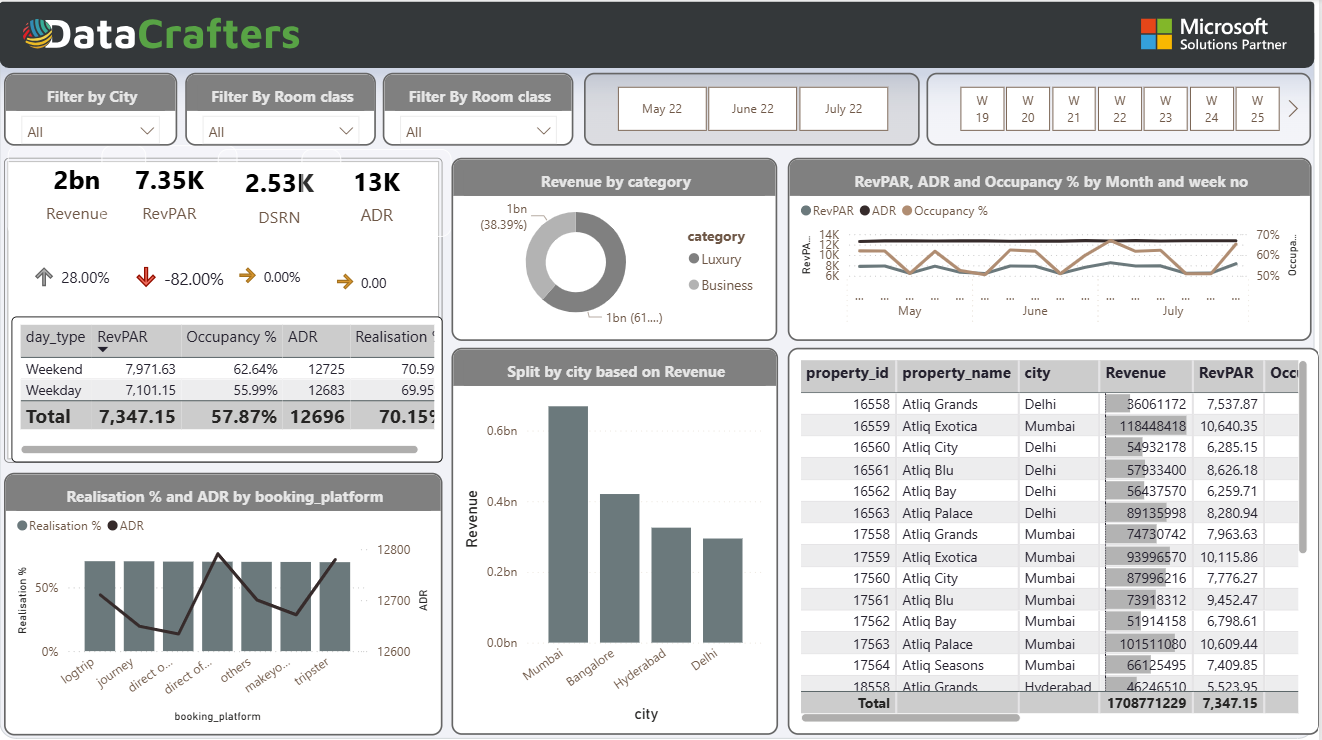

This screenshot's page, from the dashboard's own definition file:
{"tool":"powerbi","page":{"name":"Report","canvas":[1280,720],"ordinal":0},"visuals":[{"type":"shape","box":[9.7,153.2,423.5,294.4],"z":0},{"type":"card","title":"RevPAR","fields":{"Values":["-Key_Measure.Revenue"]},"box":[13.3,141.2,133.9,88.1],"z":1000},{"type":"card","title":"Revenue","fields":{"Values":["-Key_Measure.DSRN"]},"box":[216,144.8,119.4,88.1],"z":2000},{"type":"tableEx","fields":{"Values":["-Key_Measure.Revenue WoW change %"]},"box":[125.5,223.2,118.2,89.3],"z":3000},{"type":"card","title":"Revenue","fields":{"Values":["-Key_Measure.RevPAR"]},"box":[103.8,141.2,131.5,88.1],"z":4000},{"type":"slicer","title":"Filter by City","fields":{"Values":["dim_hotels.city"]},"box":[10,71.4,167.1,70],"z":5000},{"type":"slicer","title":"Filter By Room class","fields":{"Values":["dim_rooms.room_class"]},"box":[184.3,71.4,184.3,70],"z":6000},{"type":"slicer","title":"Month","fields":{"Values":["dim_date.mmm yy"]},"box":[570,71.4,324.3,70],"z":7000},{"type":"slicer","title":"Week","fields":{"Values":["dim_date.week no"]},"box":[900,71.4,371.4,70],"z":8000},{"type":"card","title":"ADR","fields":{"Values":["-Key_Measure.ADR"]},"box":[296.8,144.8,144.8,84.5],"z":9000},{"type":"slicer","title":"Filter By Room class","fields":{"Values":["dim_rooms.room_class"]},"box":[375.7,71.4,184.3,70],"z":10000},{"type":"lineStackedColumnComboChart","fields":{"Category":["fact_bookings.booking_platform"],"Y2":["-Key_Measure.ADR"],"Y":["-Key_Measure.Realisation %"]},"box":[9.7,457.2,423.5,253.4],"z":11000},{"type":"donutChart","fields":{"Y":["-Key_Measure.Revenue"],"Category":["dim_hotels.category"]},"box":[441.4,152.9,314.3,177.1],"z":12000},{"type":"tableEx","fields":{"Values":["dim_hotels.property_id","dim_hotels.property_name","dim_hotels.city","-Key_Measure.Revenue","-Key_Measure.RevPAR","-Key_Measure.Occupancy %","-Key_Measure.DBRN","-Key_Measure.DSRN","-Key_Measure.DURN","-Key_Measure.Realisation %","-Key_Measure.Cancellation %","-Key_Measure.Average Rating"]},"box":[766.1,336.6,513.9,374],"z":13000},{"type":"lineChart","fields":{"Category":["dim_date.mmm yy.Variation.Date Hierarchy.Month","dim_date.week no"],"Y":["-Key_Measure.RevPAR","-Key_Measure.ADR"],"Y2":["-Key_Measure.Occupancy %"]},"box":[765.7,152.9,505.7,177.1],"z":14000},{"type":"tableEx","fields":{"Values":["dim_date.day_type","-Key_Measure.RevPAR","-Key_Measure.Occupancy %","-Key_Measure.ADR","-Key_Measure.Realisation %"]},"box":[16.9,306.4,416.2,141.2],"z":15000},{"type":"tableEx","fields":{"Values":["-Key_Measure.Revpar WoW change %"]},"box":[27.7,223.2,106.2,65.1],"z":16000},{"type":"tableEx","fields":{"Values":["-Key_Measure.DSRN WoW change %"]},"box":[225.6,223.2,101.3,70],"z":17000},{"type":"tableEx","fields":{"Values":["-Key_Measure.ADR WoW change %"]},"box":[319.7,229.2,91.7,70],"z":18000},{"type":"columnChart","title":"Split by city based on Revenue","fields":{"Category":["dim_hotels.city"],"Y":["-Key_Measure.Revenue"]},"box":[441.6,336.6,314.9,374],"z":18001}]}

Visuals, with their boxes in screenshot pixels (x1, y1, x2, y2), scaled from the page's 1280x720 canvas onto the 1322x740 screenshot:
shape: select_region(10, 157, 447, 460)
"RevPAR" card: select_region(14, 145, 152, 236)
"Revenue" card: select_region(223, 149, 346, 239)
tableEx - -Key_Measure.Revenue WoW change %: select_region(130, 229, 252, 321)
"Revenue" card: select_region(107, 145, 243, 236)
"Filter by City" slicer: select_region(10, 73, 183, 145)
"Filter By Room class" slicer: select_region(190, 73, 381, 145)
"Month" slicer: select_region(589, 73, 924, 145)
"Week" slicer: select_region(930, 73, 1313, 145)
"ADR" card: select_region(307, 149, 456, 236)
"Filter By Room class" slicer: select_region(388, 73, 578, 145)
lineStackedColumnComboChart - fact_bookings.booking_platform x -Key_Measure.ADR: select_region(10, 470, 447, 730)
donutChart - -Key_Measure.Revenue x dim_hotels.category: select_region(456, 157, 780, 339)
tableEx - dim_hotels.property_id x dim_hotels.property_name: select_region(791, 346, 1321, 730)
lineChart - dim_date.mmm yy.Variation.Date Hierarchy.Month x dim_date.week no: select_region(791, 157, 1313, 339)
tableEx - dim_date.day_type x -Key_Measure.RevPAR: select_region(17, 315, 447, 460)
tableEx - -Key_Measure.Revpar WoW change %: select_region(29, 229, 138, 296)
tableEx - -Key_Measure.DSRN WoW change %: select_region(233, 229, 338, 301)
tableEx - -Key_Measure.ADR WoW change %: select_region(330, 236, 425, 308)
"Split by city based on Revenue" columnChart: select_region(456, 346, 781, 730)
